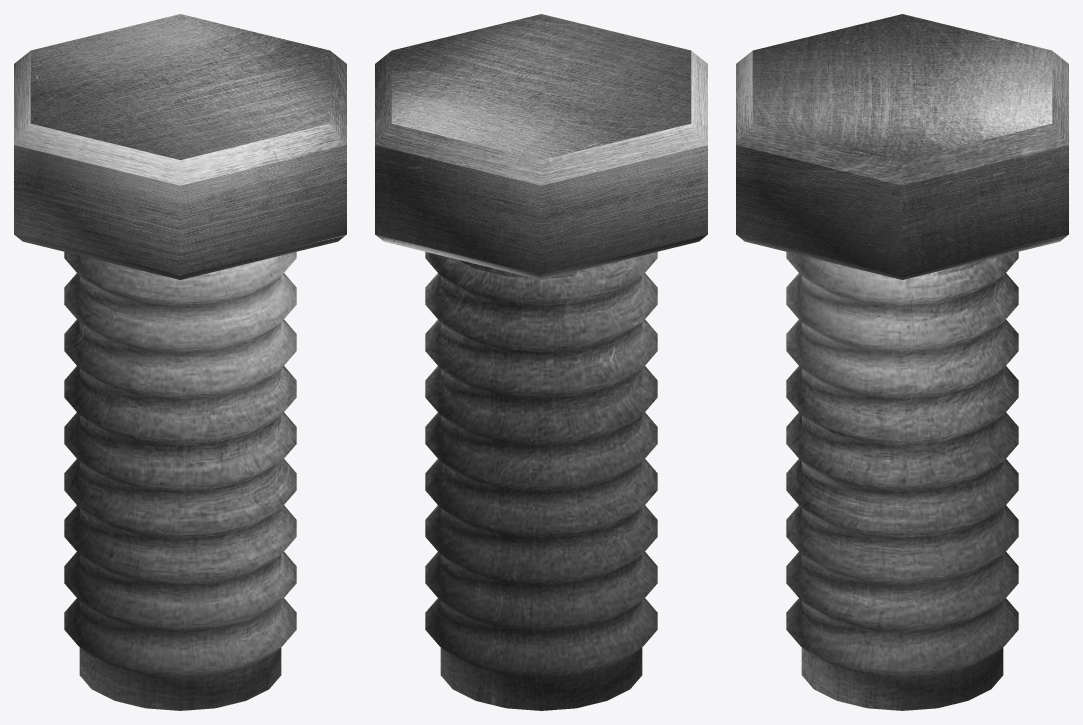
Rendered from Screw_6.FBX.
The picture shows the model from 3 angles, left to right: view 1: azimuth 30°, elevation 25°; view 2: azimuth 150°, elevation 25°; view 3: azimuth 270°, elevation 25°; orthographic projection.
Visible parts, largest first — view 1: HightPolygon; view 2: HightPolygon; view 3: HightPolygon.
Part boxes in pixels (<box>): HightPolygon: <box>14,14,346,710</box>; HightPolygon: <box>375,14,707,710</box>; HightPolygon: <box>736,14,1068,710</box>.
Bounding box in the file's own units: 30 × 50 × 25.98.
Materials: 1 (1 with a texture image).
